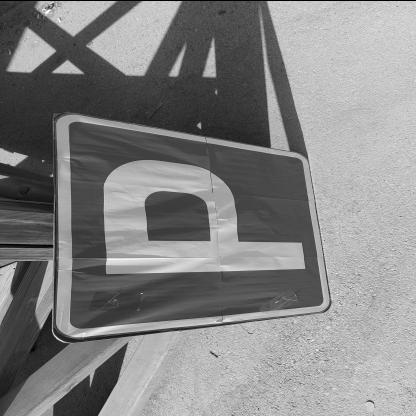Parking-Sign: (49, 111, 336, 345)
